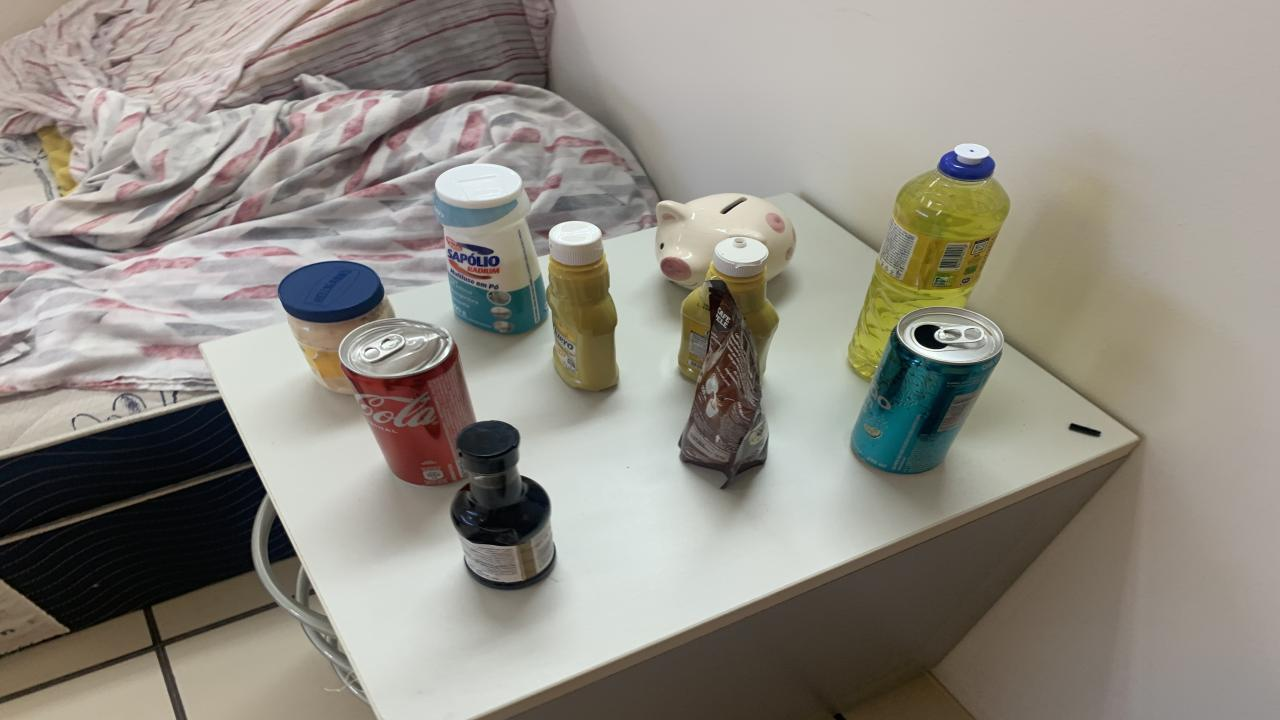Cleaner-Cleanup_Items: (435, 163, 548, 334)
Coffee-Pantry_Items: (678, 279, 768, 486)
Coke-Drinks: (340, 317, 475, 486)
Detergent-Cleanup_Items: (848, 144, 1010, 377)
English_Sauce-Pantry_Items: (450, 422, 555, 589)
Mayonnaise-Pantry_Items: (278, 261, 395, 394)
Mustard-Pantry_Items: (678, 236, 778, 379), (548, 221, 618, 390)
Pig_Safe-Miscellaneous: (655, 193, 795, 289)
Tea-Drinks: (850, 308, 1002, 474)
